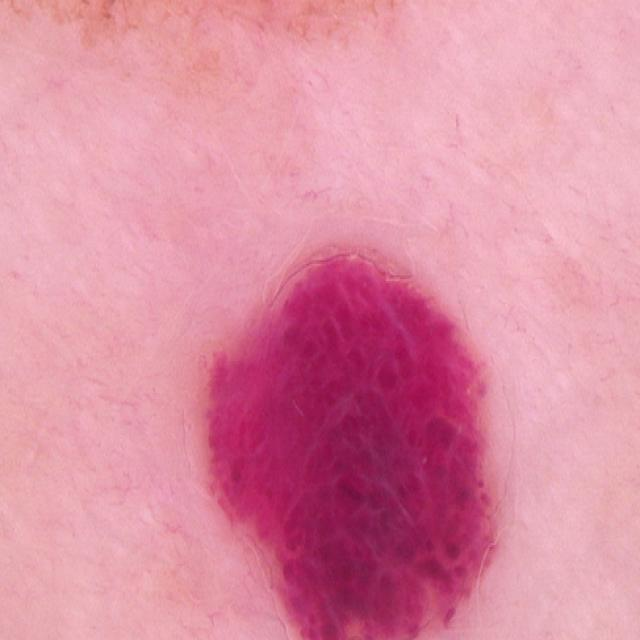Vascular Lesions: (174, 207, 525, 640)
